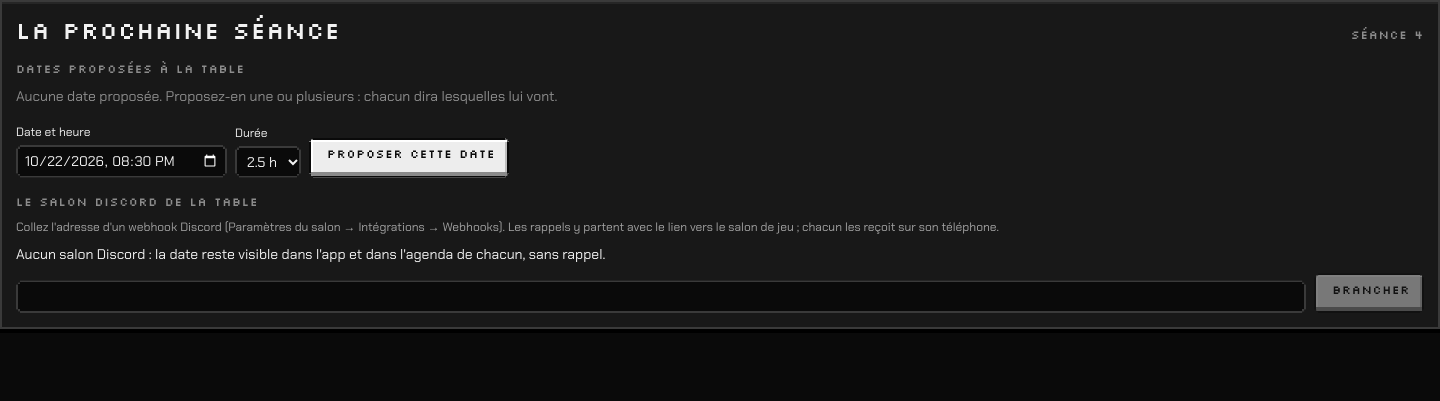
Test case: SchedulePanel › says why the server refused a date
Click the button "Proposer cette date" at (409,158), box [309,138,509,178]
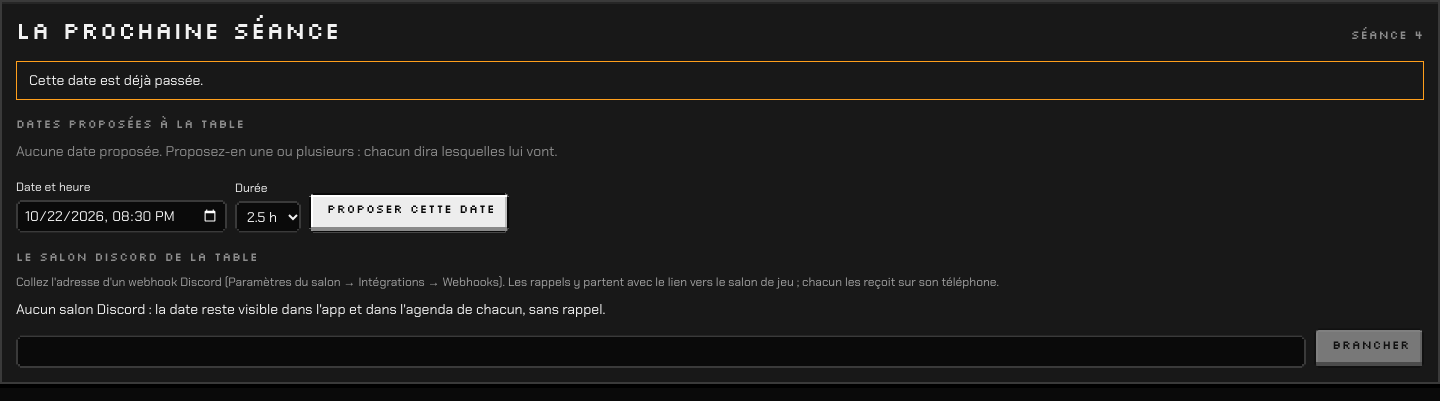
Now the message reads "Cette date est déjà passée.", box [29,71,203,89]
